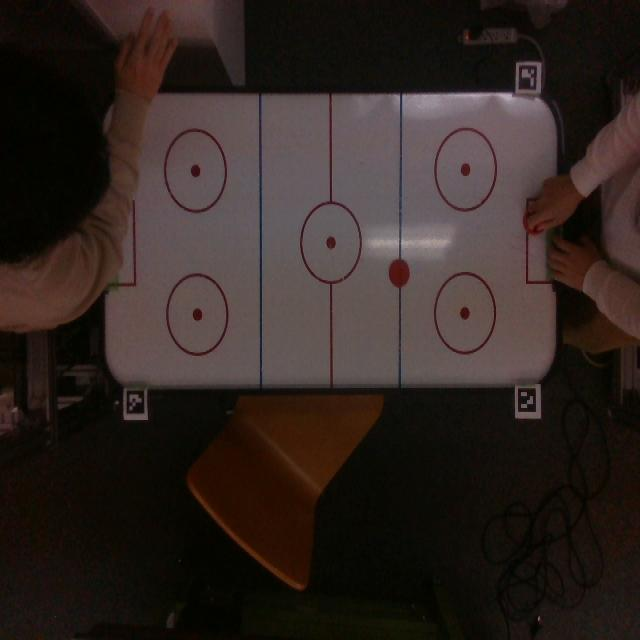puck: (388, 258, 411, 288)
